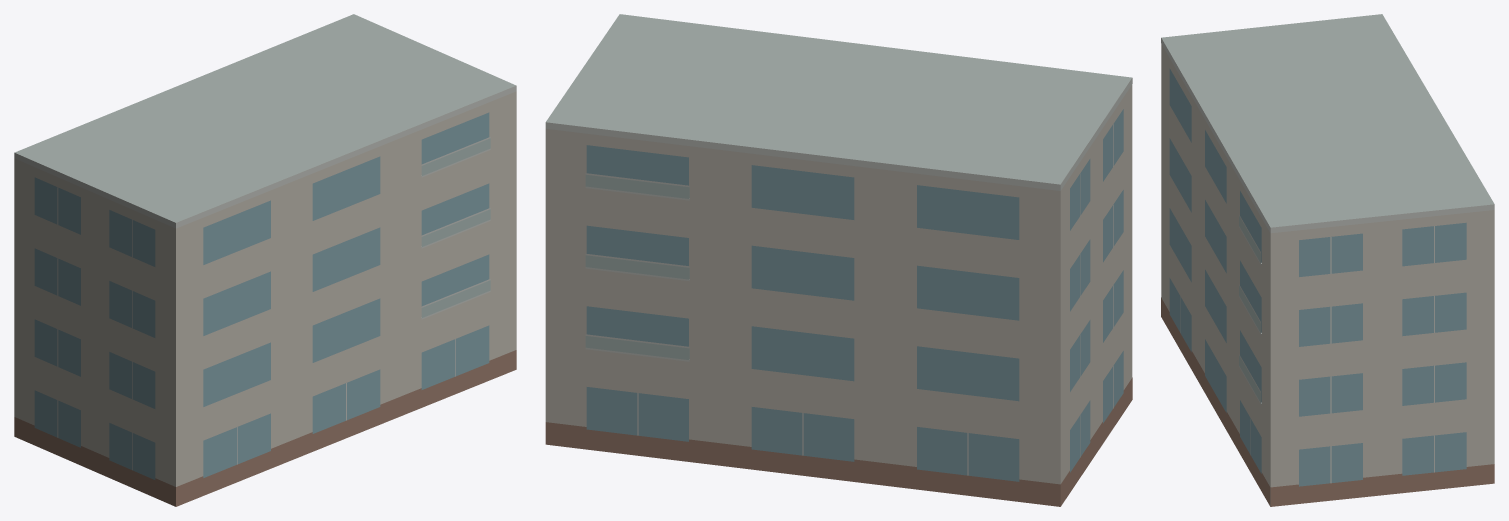
The model's file is survey-upis-32651309.glb.
The picture shows the model from 3 angles, left to right: view 1: azimuth 30°, elevation 25°; view 2: azimuth 150°, elevation 25°; view 3: azimuth 270°, elevation 25°; orthographic projection. The views are drawn at different scales.
Parts seen in each view (by area): view 1: survey-upis-32651309.tmp; view 2: survey-upis-32651309.tmp; view 3: survey-upis-32651309.tmp.
Boxes of the visible parts, left/top/right/bottom form: survey-upis-32651309.tmp: left=14, top=14, right=516, bottom=506; survey-upis-32651309.tmp: left=545, top=14, right=1132, bottom=506; survey-upis-32651309.tmp: left=1161, top=14, right=1494, bottom=506.
Size of the model in its own units: 20.03 by 12.2 by 13.22.
